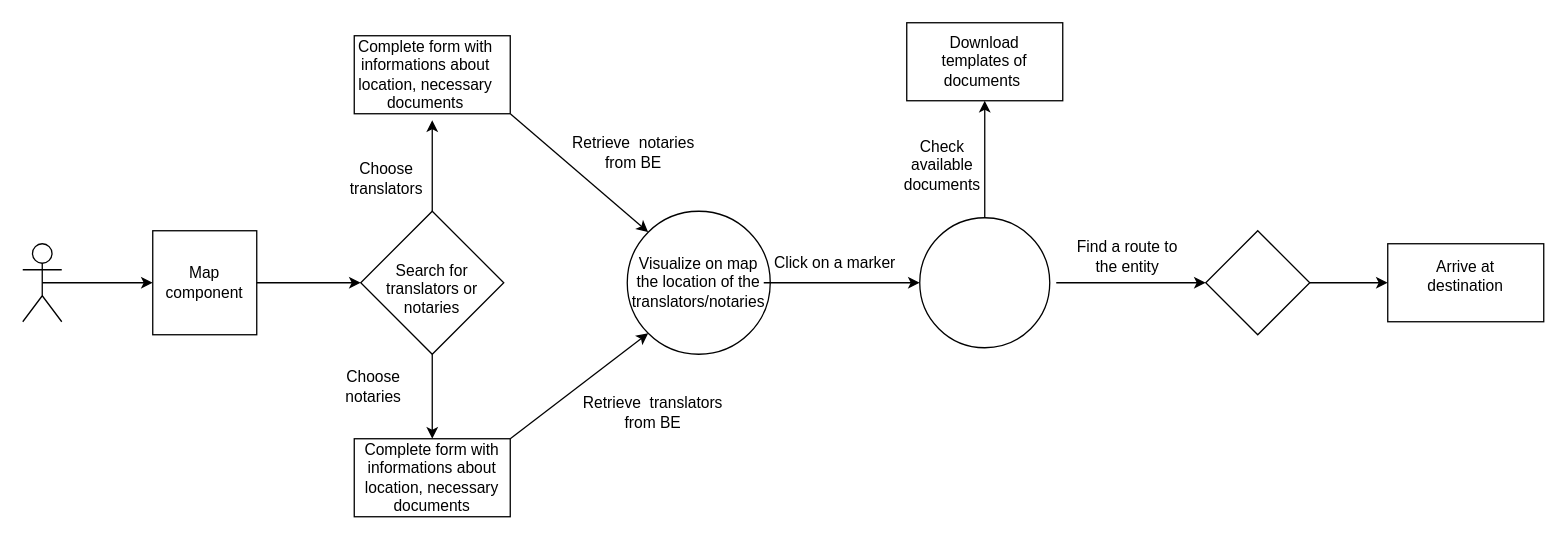
Image size: 1567x540. Some labels were removed from this diagram. Here are the shapes that lost their labels. From the top down, the centre of each, then its label:
At point 41,282: "Actor".
At point 984,282: "Additional informations about the entity is displayed".
At point 1257,282: "Select transportation mode".
